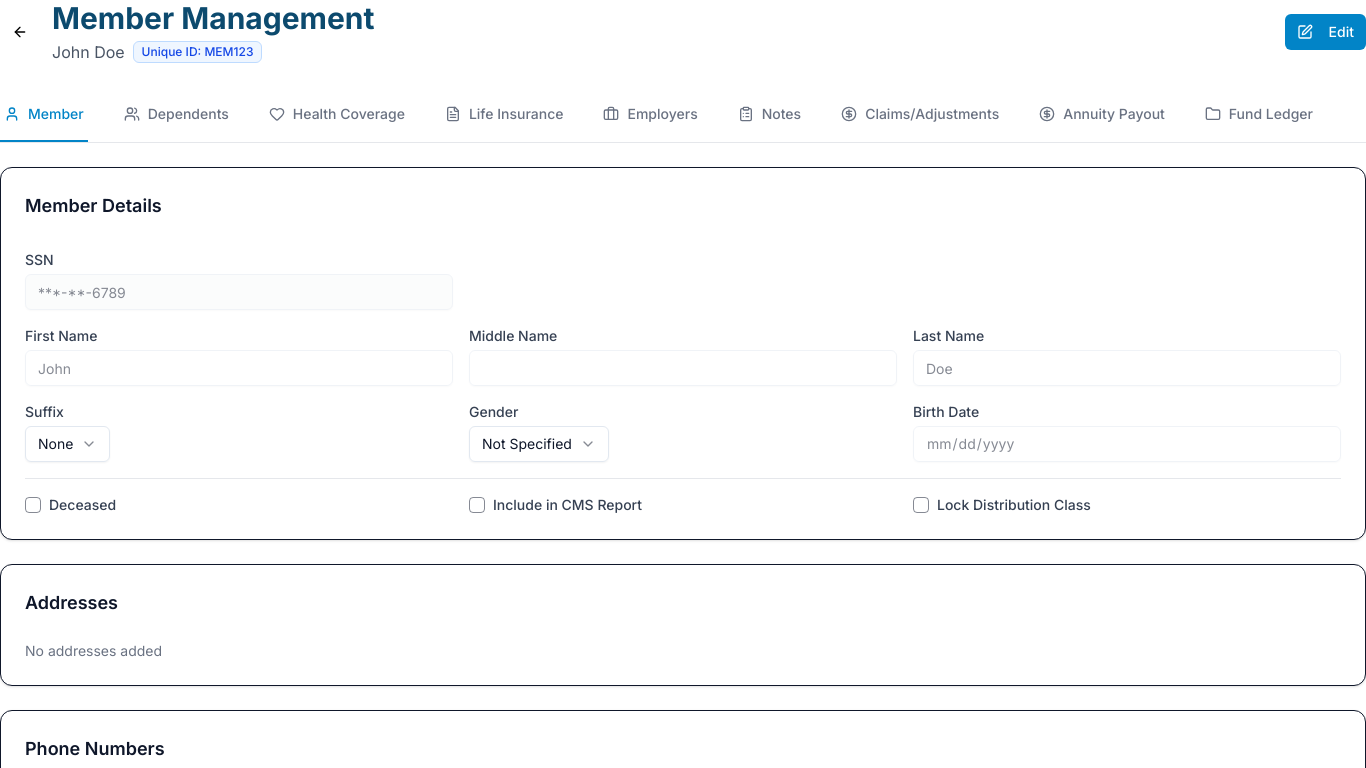
Test: Claims/Adjustments Tab › should show validation message when submitting claim without required fields
This screenshot has width=1366, height=768.
expect the text "John Doe" is shown: met, box [52,40,125,64]
// Click on Claims/Adjustments tab
Click the button "Claims/Adjustments": {"x": 920, "y": 115} [837,88,1003,142]
(page scrolled)
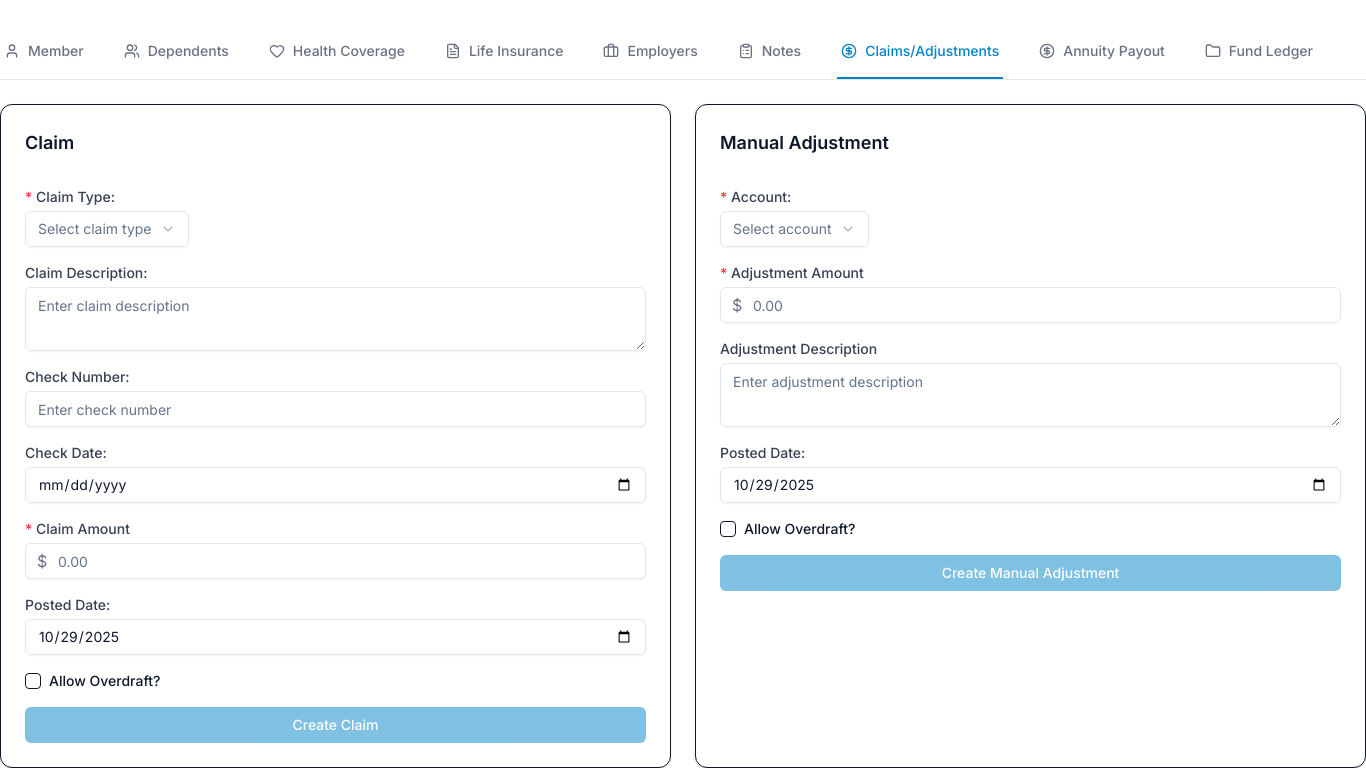
expect the button "Create Claim" is disabled: met, box [25,707,646,743]
